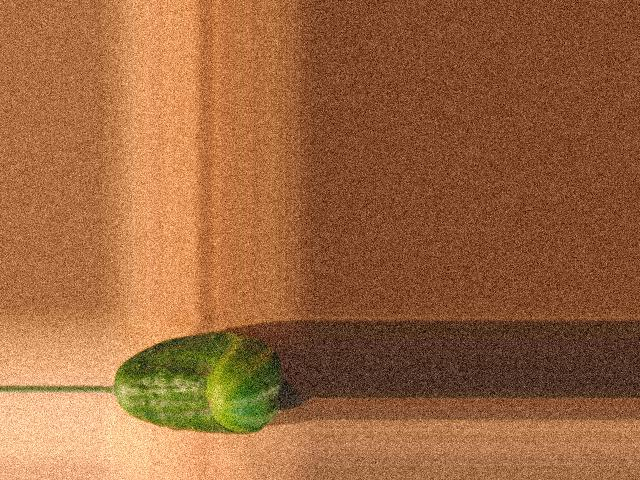cucumber: (113, 332, 280, 435)
